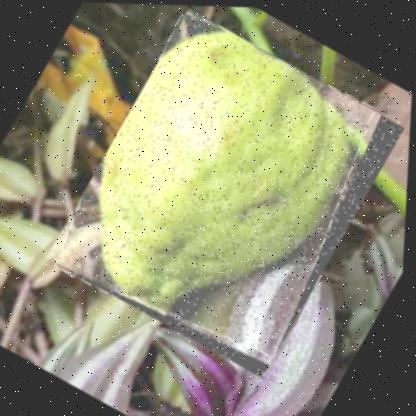guava: (43, 2, 411, 378)
